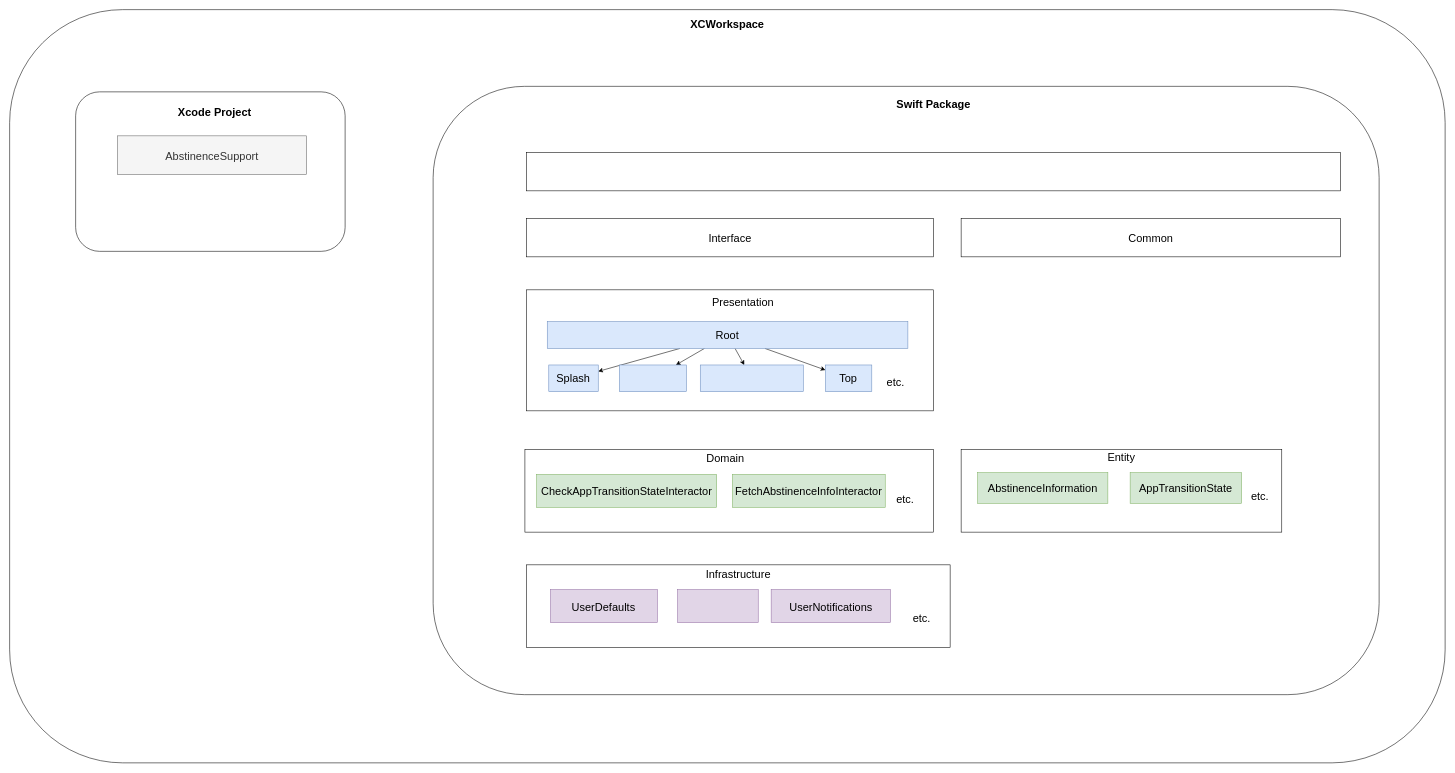
The diagram is 1455 pixels wide and 773 high, and some of its shapes have lost their labels. Here are the shapes that lost their labels. From the top down, the centre of each, then its label:
At [933,171]: "AbstinenceSupportCore".
At [652,378]: "Onboarding".
At [751,378]: "AbstinenceStart".
At [717,606]: "KeyChain".
